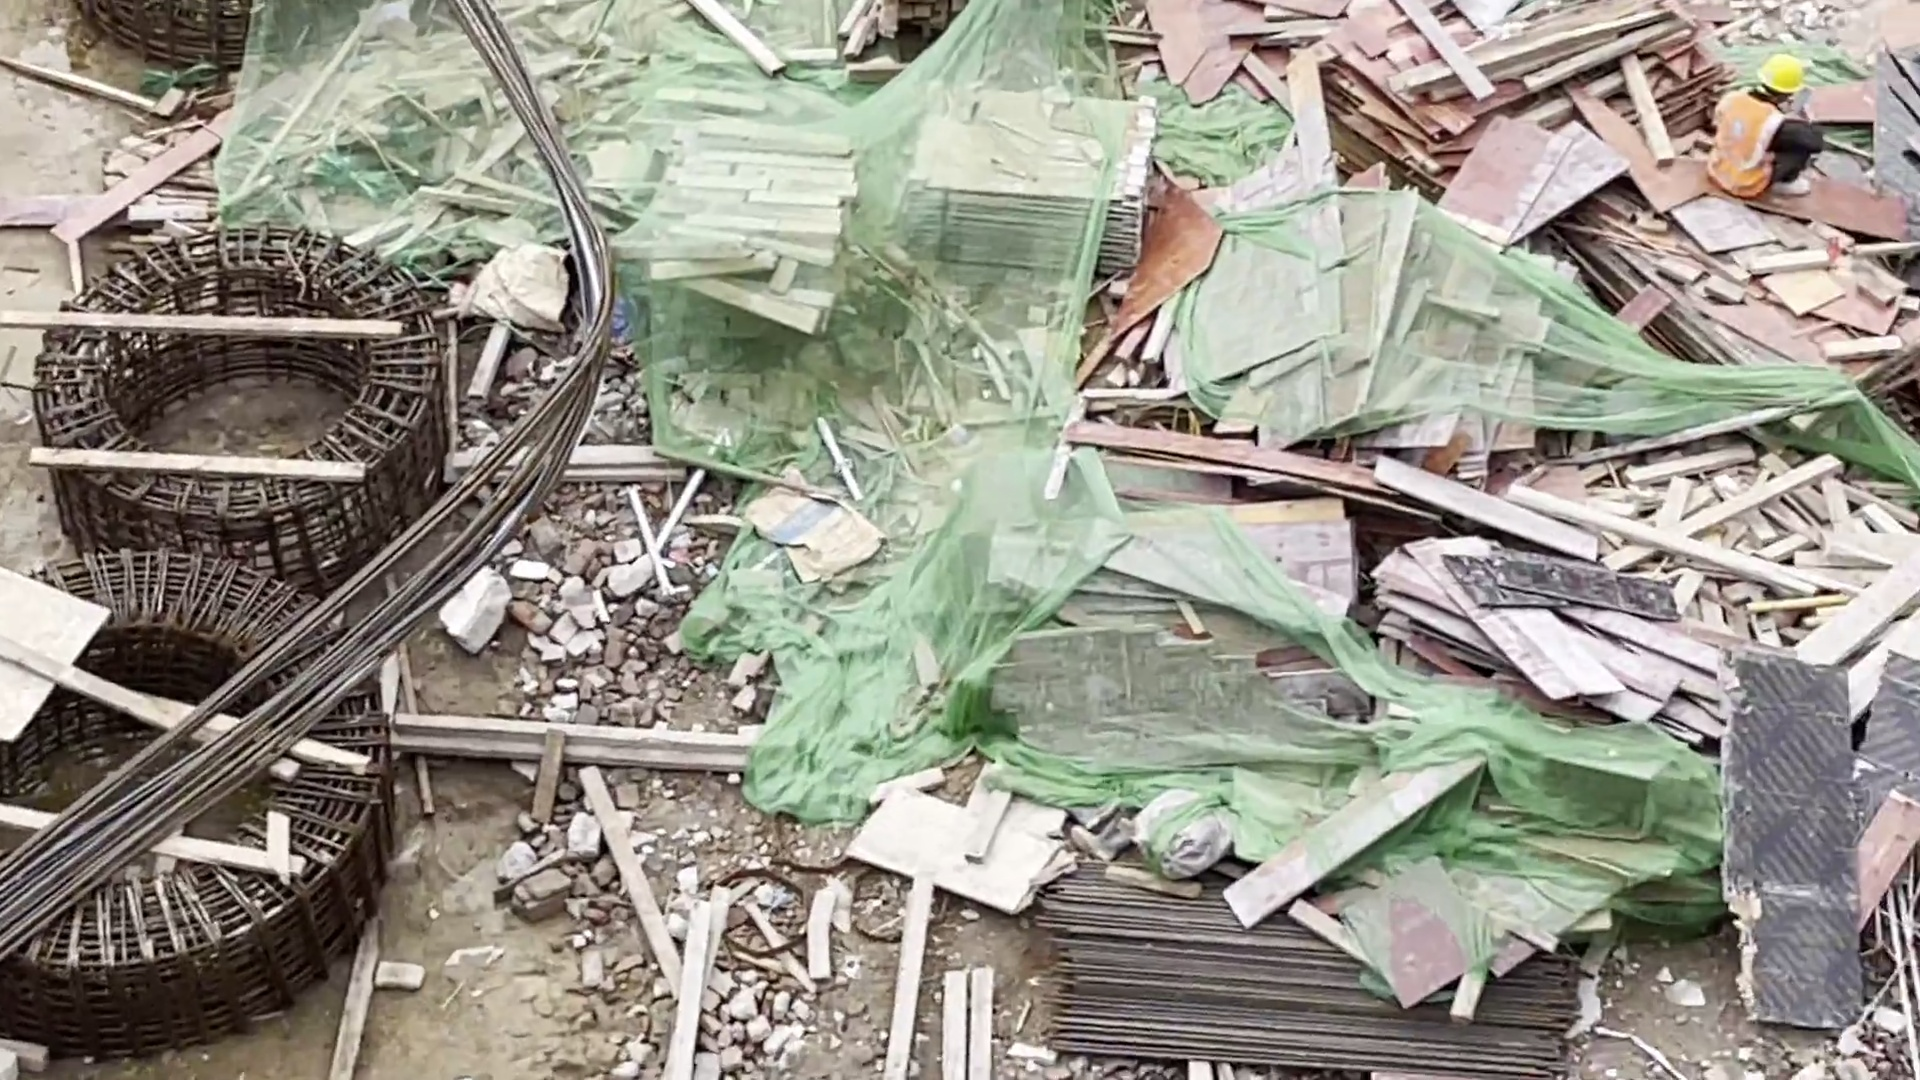board: (895, 76, 1158, 266)
helmet: (1759, 51, 1808, 94)
person: (1707, 52, 1820, 202)
rebar: (2, 296, 617, 955), (1054, 874, 1590, 1070), (443, 4, 610, 307)
vest: (1711, 90, 1775, 194)
wood: (666, 123, 829, 339)
